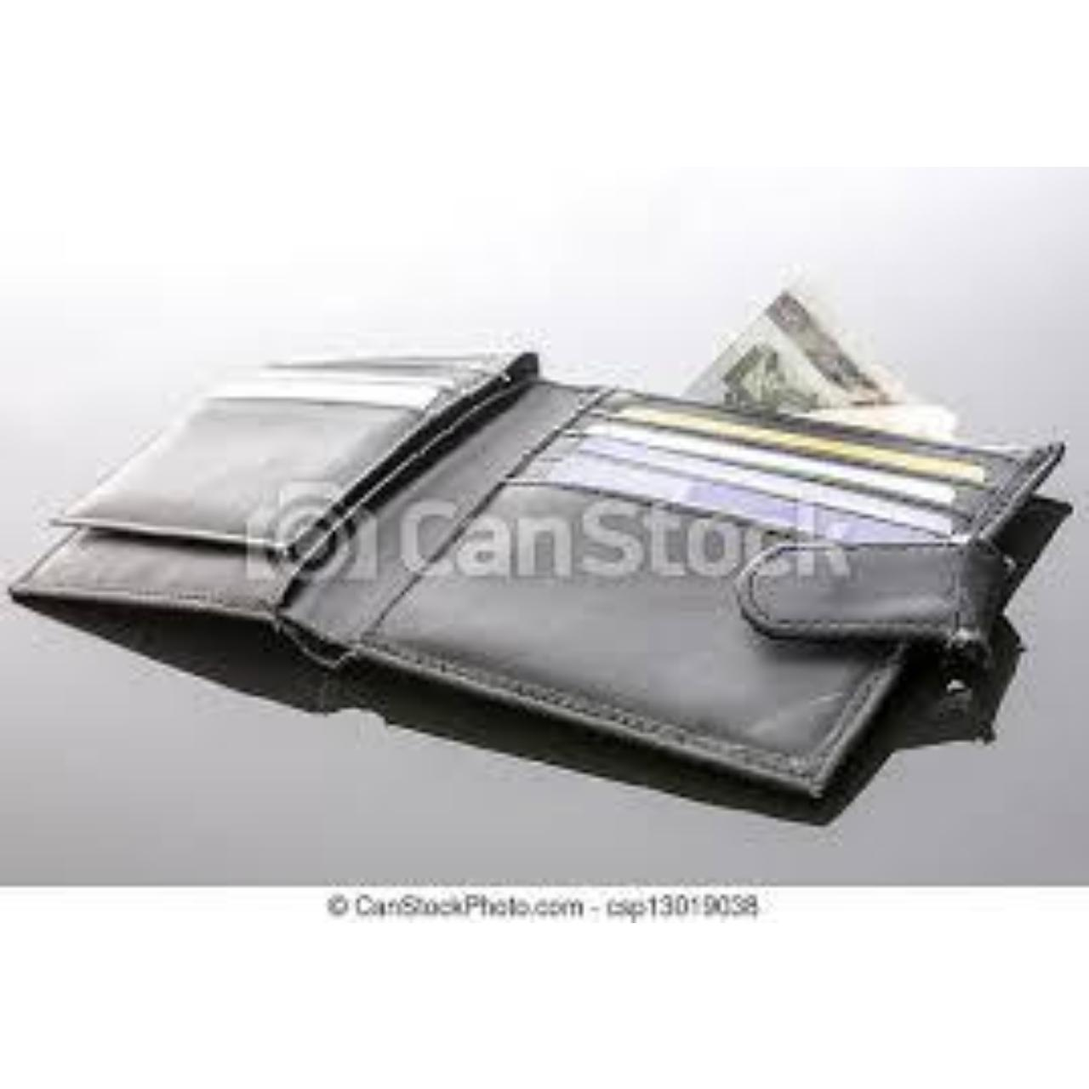wallet: (37, 312, 1069, 806)
